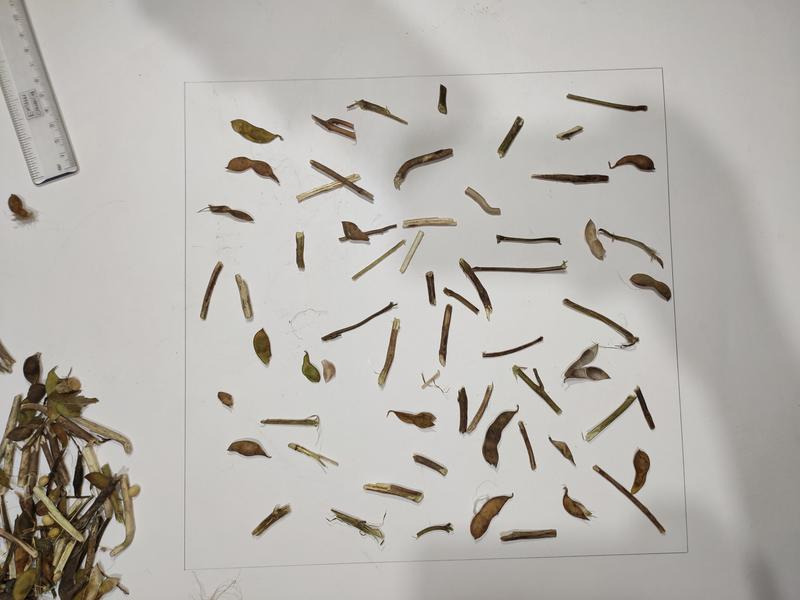Kadi: (592, 464, 670, 534), (559, 294, 651, 346), (311, 300, 406, 339), (510, 364, 564, 420), (391, 146, 456, 192), (584, 389, 636, 446), (326, 504, 388, 551), (457, 258, 504, 320), (309, 159, 375, 203), (600, 226, 669, 267), (351, 239, 411, 282), (296, 170, 362, 206), (562, 342, 616, 385), (193, 199, 259, 234), (488, 404, 520, 475), (565, 89, 649, 114), (344, 95, 413, 124), (376, 318, 403, 389), (225, 115, 286, 146), (470, 258, 576, 275), (633, 381, 667, 433), (476, 335, 552, 358), (223, 155, 281, 185), (248, 503, 292, 542), (467, 378, 496, 435), (288, 441, 339, 473), (361, 481, 428, 505), (629, 267, 676, 301), (515, 419, 543, 476), (199, 261, 225, 322), (308, 113, 358, 142), (384, 407, 439, 433), (580, 217, 610, 264), (398, 231, 431, 272), (225, 438, 274, 465), (338, 220, 397, 242), (496, 112, 524, 158), (464, 184, 504, 216), (288, 229, 314, 278), (232, 273, 259, 320), (442, 287, 482, 318), (258, 414, 322, 433), (629, 447, 653, 497), (561, 485, 593, 521), (547, 433, 579, 468), (529, 173, 611, 186), (296, 350, 320, 392), (438, 303, 453, 369), (250, 328, 276, 366), (608, 156, 658, 175), (495, 231, 562, 245), (411, 452, 449, 476), (400, 215, 459, 230), (454, 387, 469, 440), (498, 528, 559, 541), (554, 122, 587, 145), (419, 370, 446, 398), (411, 523, 455, 540), (321, 355, 339, 390), (423, 270, 439, 308), (435, 81, 451, 118), (214, 390, 236, 411)
